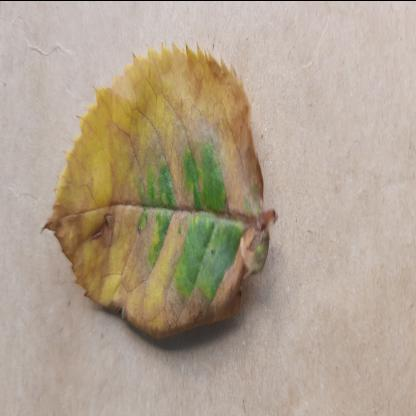black-spot: (48, 41, 272, 353)
